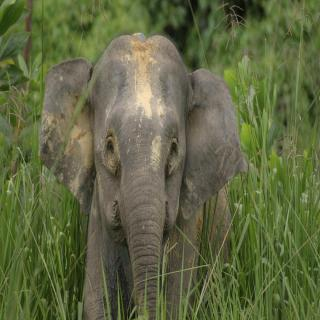Elephant: (36, 30, 248, 320)
